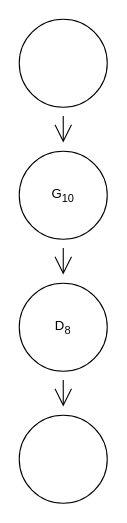
This 127x523 diagram has some shape labels left out. The centre of each missing label's shape, as x and y in pixels:
"ABC 6" goes at (62,458).
"E 11" goes at (62,62).
